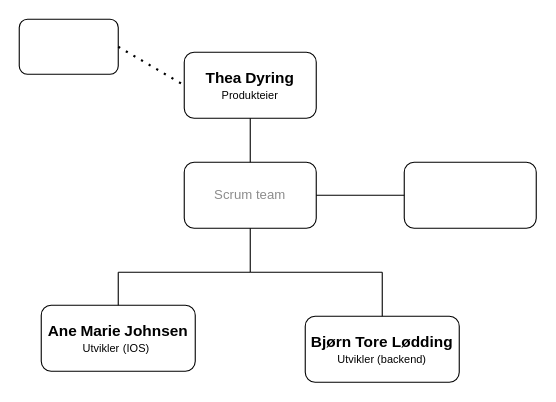
Some shapes in this 556 by 402 pixel diagram are drawn without their labels. The shapes that lost their labels are listed below. From the top down, each one's centre as x and y in pixels, then its label:
At point 68,46: "Hopla Interessenter".
At point 469,194: "Vilde Kværne Scrum master Utvikler (android )".
